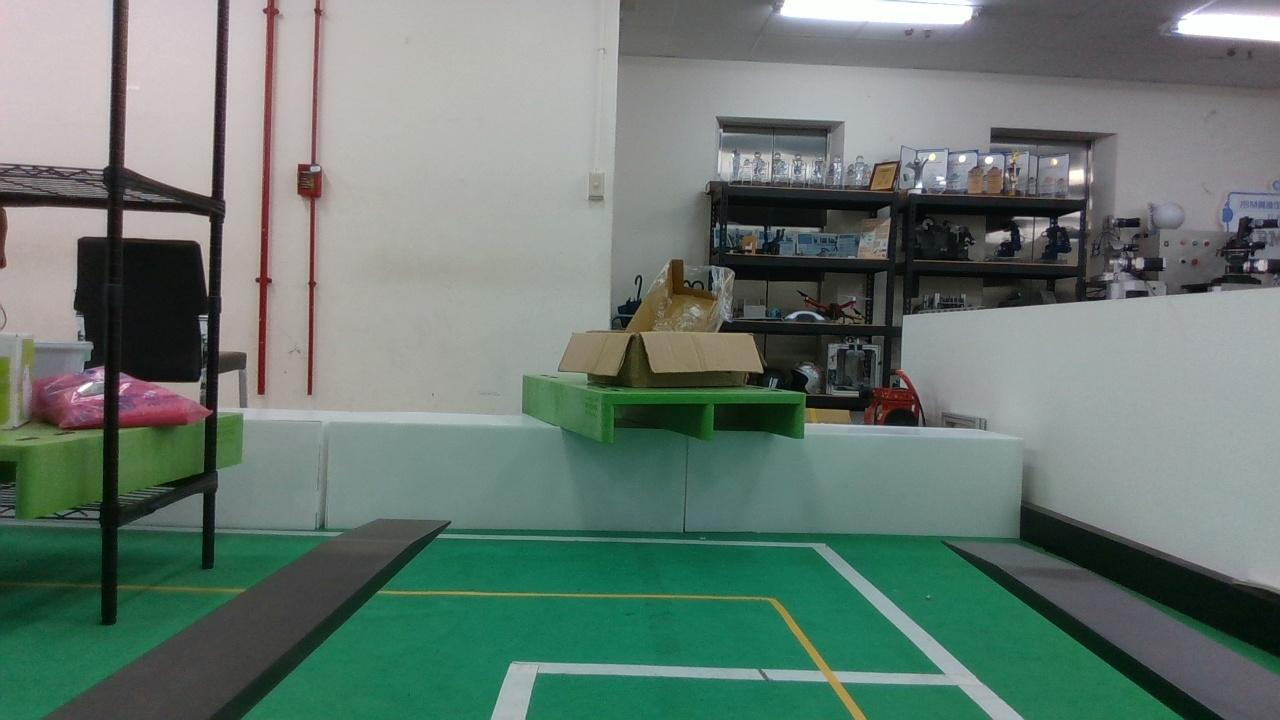Pallet: (595, 389, 815, 451)
